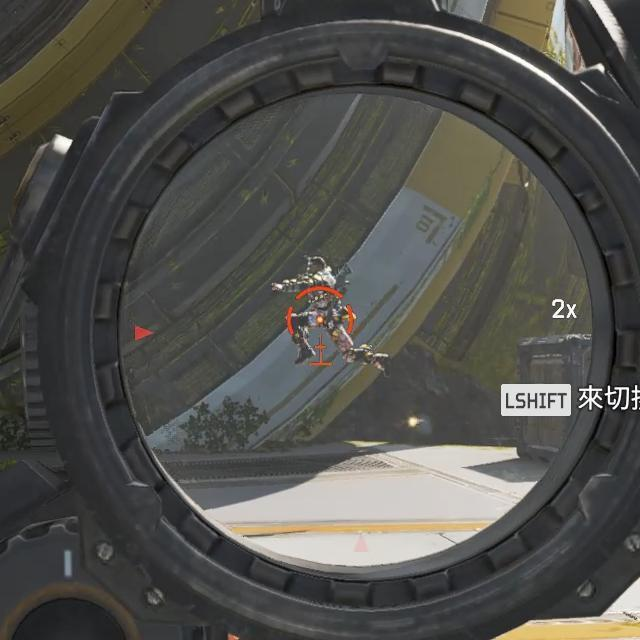avatar: (283, 254, 356, 368)
